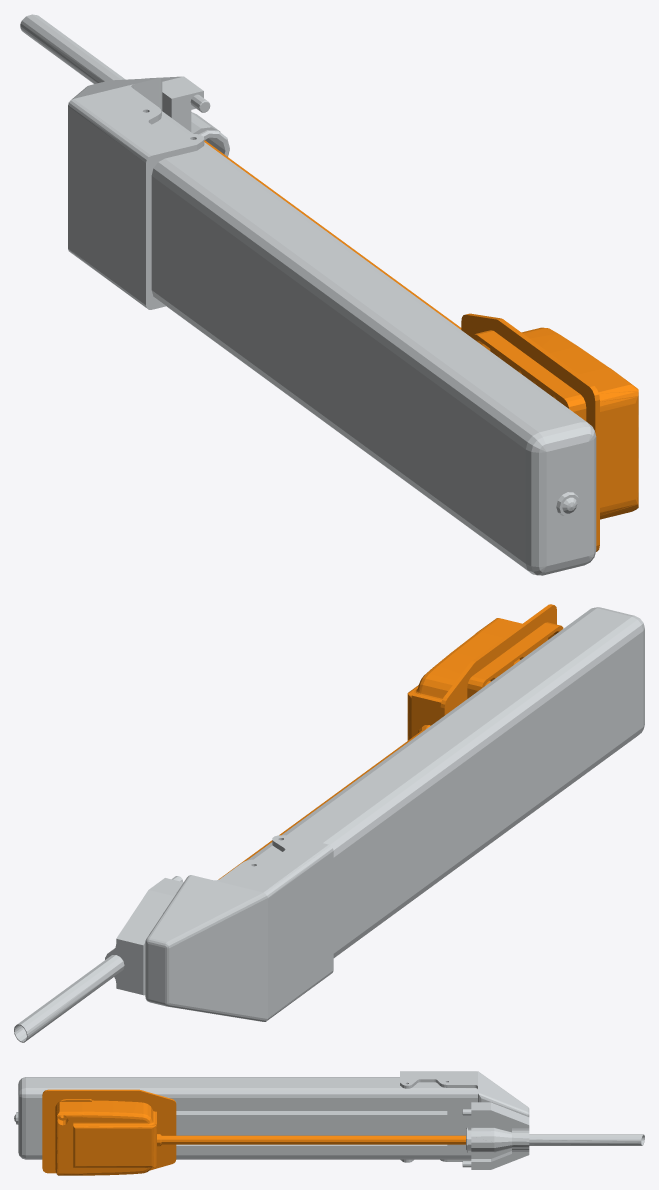
The model's file is psm_modified_for_collada.dae.
3 renders of one model, top to bottom at view 1: azimuth 30°, elevation 25°; view 2: azimuth 150°, elevation 25°; view 3: azimuth 270°, elevation 25°, orthographic. The views are drawn at different scales.
Visible parts, largest first — view 1: psm_pitch_end_link, psm_main_insertion_link; view 2: psm_pitch_end_link, psm_main_insertion_link; view 3: psm_pitch_end_link, psm_main_insertion_link.
Boxes of the visible parts, <box> form: psm_pitch_end_link: <box>20,14,596,575</box>; psm_main_insertion_link: <box>204,140,638,551</box>; psm_pitch_end_link: <box>14,607,644,1042</box>; psm_main_insertion_link: <box>218,604,563,879</box>; psm_pitch_end_link: <box>14,1071,644,1169</box>; psm_main_insertion_link: <box>42,1089,465,1175</box>.
Bounding box in the file's own units: 0.0838 × 0.5753 × 0.083.
